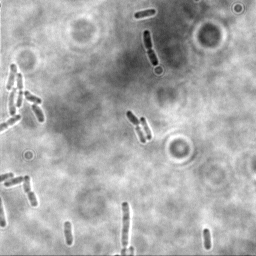Dividing: (125, 109, 147, 145), (142, 28, 159, 67), (21, 174, 39, 208)
Microcolony: (1, 63, 47, 133)
Rod: (119, 200, 131, 249), (138, 116, 154, 141), (132, 7, 158, 20), (62, 220, 74, 247), (4, 175, 26, 189), (201, 228, 213, 251)
